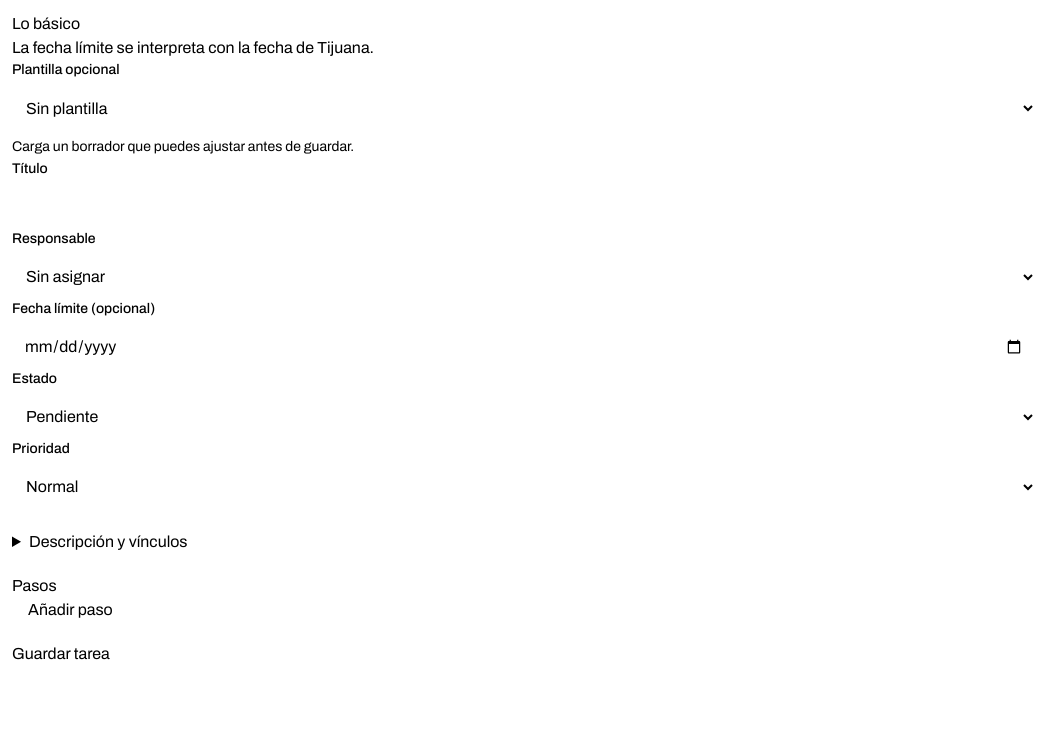
Test: a template populates only a draft
Select "Captación de inmueble" in the dropdown labelled "Plantilla opcional" at (524, 108), box [12, 86, 1036, 130]
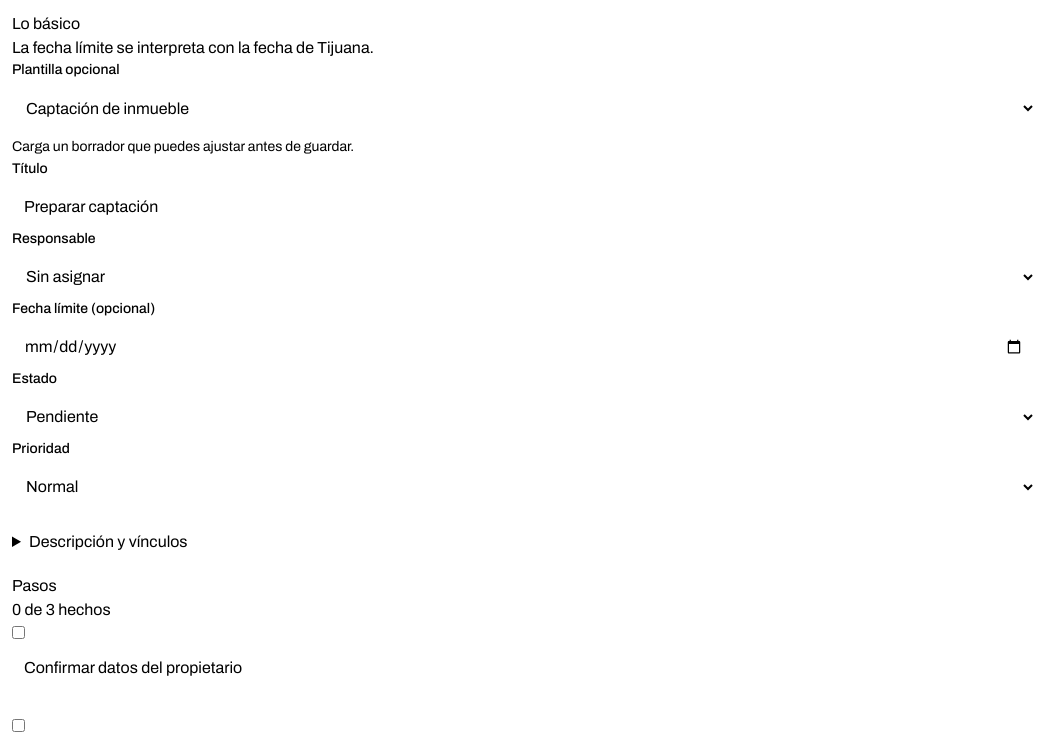
Now the checkbox named "Completar paso 1" is shown, box [12, 626, 25, 639]
